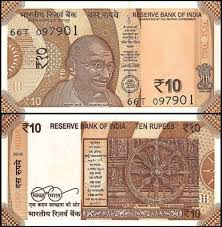ten: (10, 21, 197, 98)
